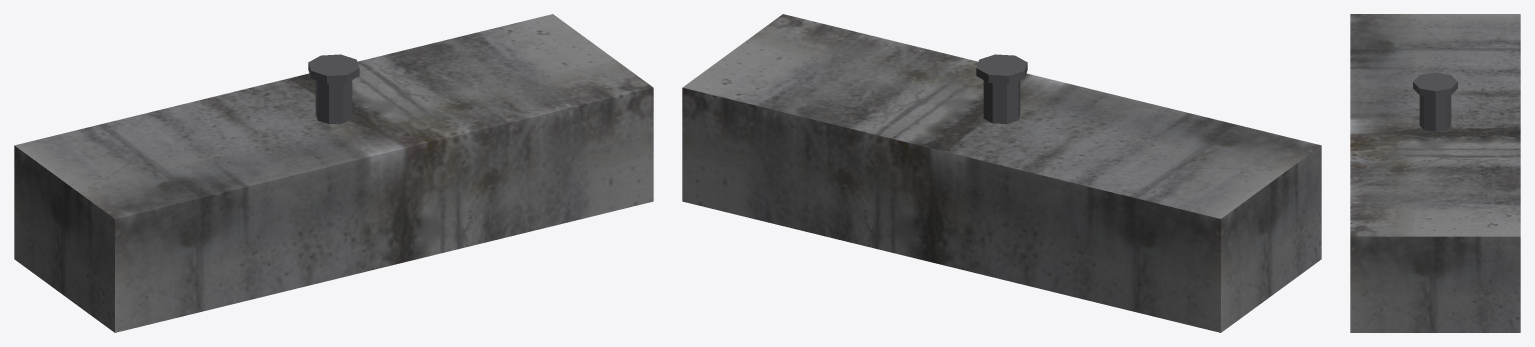
File: zdymadlo_zed_horni.glb
3 views of the same model, side by side, from view 1: azimuth 30°, elevation 25°; view 2: azimuth 150°, elevation 25°; view 3: azimuth 270°, elevation 25° (orthographic). The views are drawn at different scales.
Parts seen in each view (by area): view 1: zdymadlo_zed_horni; view 2: zdymadlo_zed_horni; view 3: zdymadlo_zed_horni.
Part boxes in pixels (x1,y1,x2,y2): zdymadlo_zed_horni: [14, 14, 653, 332]; zdymadlo_zed_horni: [682, 14, 1321, 332]; zdymadlo_zed_horni: [1350, 14, 1520, 332].
Size of the model in its own units: 4.95 by 1.45 by 1.6.
Materials: 2 (1 with a texture image).
